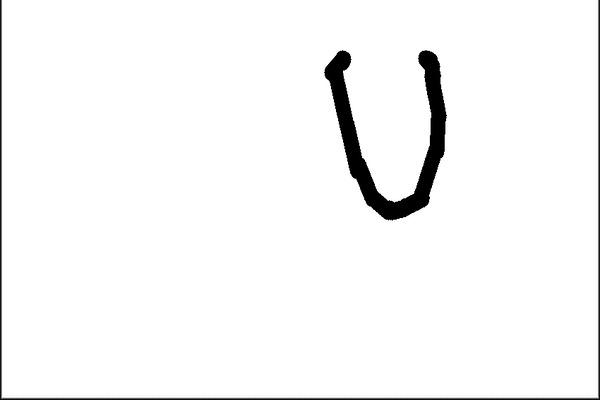U: (311, 39, 453, 232)
